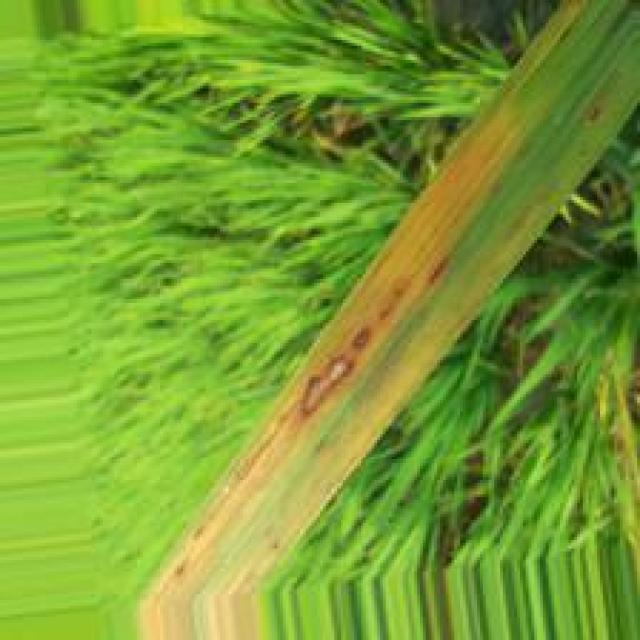Rice Tungro: (133, 95, 529, 640)
